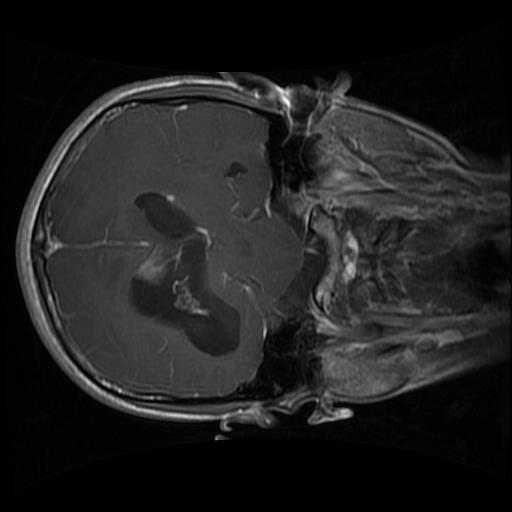glioma: (125, 188, 244, 360)
